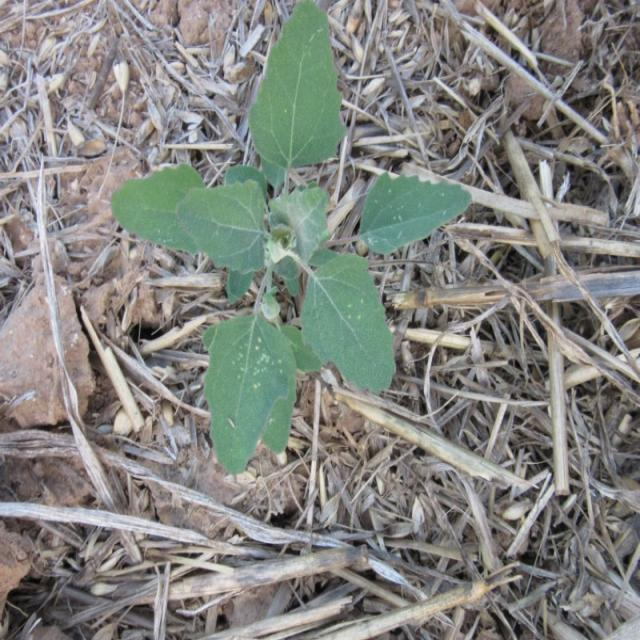ca: (108, 0, 468, 476)
